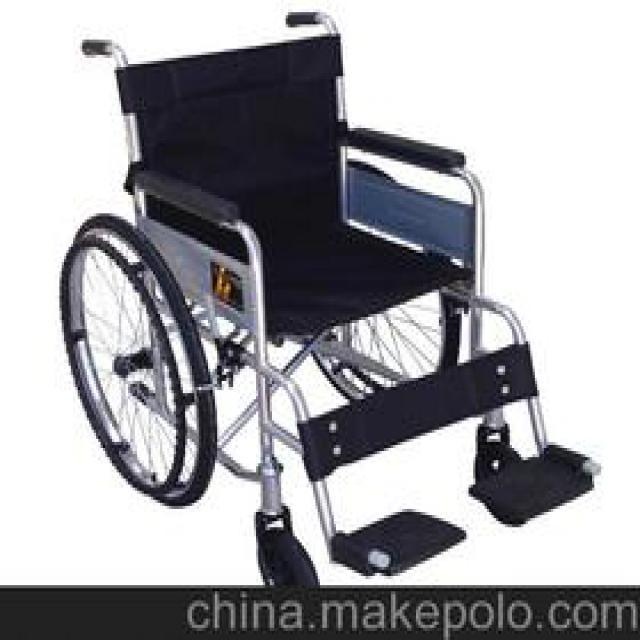wheelchair: (54, 3, 602, 585)
